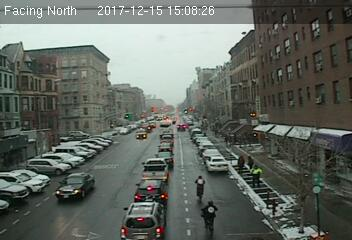bicycle: (201, 201, 217, 234), (194, 174, 207, 201)
car: (121, 202, 166, 238), (55, 173, 94, 199), (133, 179, 168, 202), (141, 157, 169, 180), (155, 151, 174, 169), (205, 156, 227, 171), (156, 143, 173, 152), (176, 124, 186, 132)
pedestrian: (251, 165, 262, 187), (238, 152, 246, 176)
